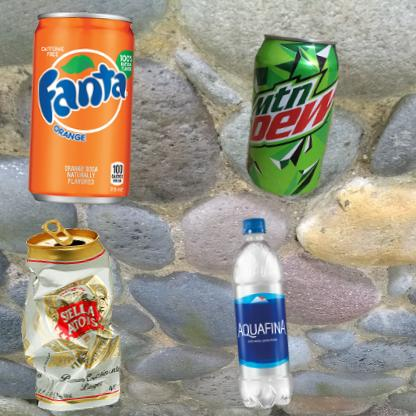botella: (213, 213, 312, 416)
lata: (213, 10, 376, 219), (10, 10, 154, 209), (10, 213, 133, 416)
